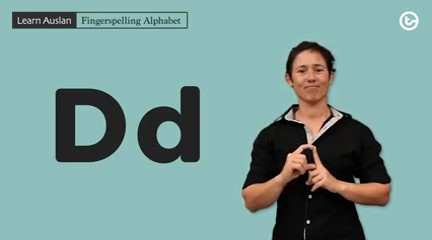D: (283, 143, 327, 194)
